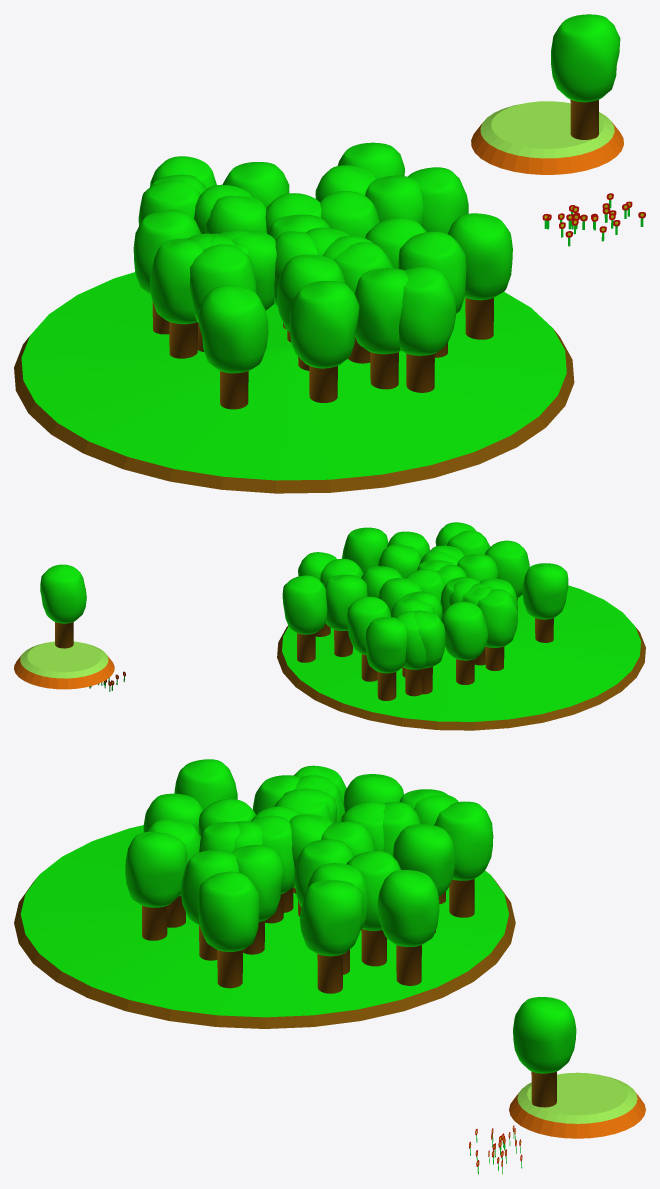
Rendered from world.glb.
3 views of the same model, one above another, from view 1: azimuth 30°, elevation 25°; view 2: azimuth 150°, elevation 25°; view 3: azimuth 270°, elevation 25° (orthographic). The views are drawn at different scales.
Visible parts, largest first — view 1: Circle.002, Circle.003, Circle, Circle.001, Plane.001; view 2: Circle.003, Circle.002, Circle, Circle.001; view 3: Circle.003, Circle.002, Circle, Circle.001.
Part boxes in pixels (x1=…): Circle.002: x1=14, y1=272, x2=574, y2=493; Circle.003: x1=133, y1=142, x2=512, y2=409; Circle: x1=471, y1=101, x2=623, y2=174; Circle.001: x1=551, y1=14, x2=620, y2=139; Plane.001: x1=542, y1=193, x2=645, y2=246; Circle.003: x1=282, y1=522, x2=568, y2=700; Circle.002: x1=277, y1=585, x2=645, y2=730; Circle: x1=14, y1=641, x2=114, y2=689; Circle.001: x1=40, y1=564, x2=86, y2=648; Circle.003: x1=125, y1=759, x2=493, y2=993; Circle.002: x1=14, y1=825, x2=515, y2=1028; Circle: x1=509, y1=1072, x2=645, y2=1138; Circle.001: x1=513, y1=997, x2=576, y2=1107.
Size of what is drawn, in the model's own units: 31.69 by 7.73 by 26.3.
